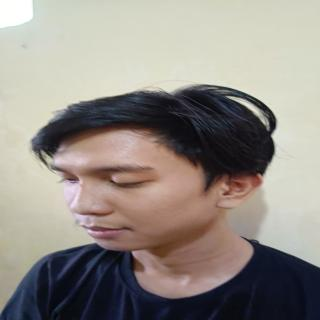Sedih: (45, 125, 221, 255)
